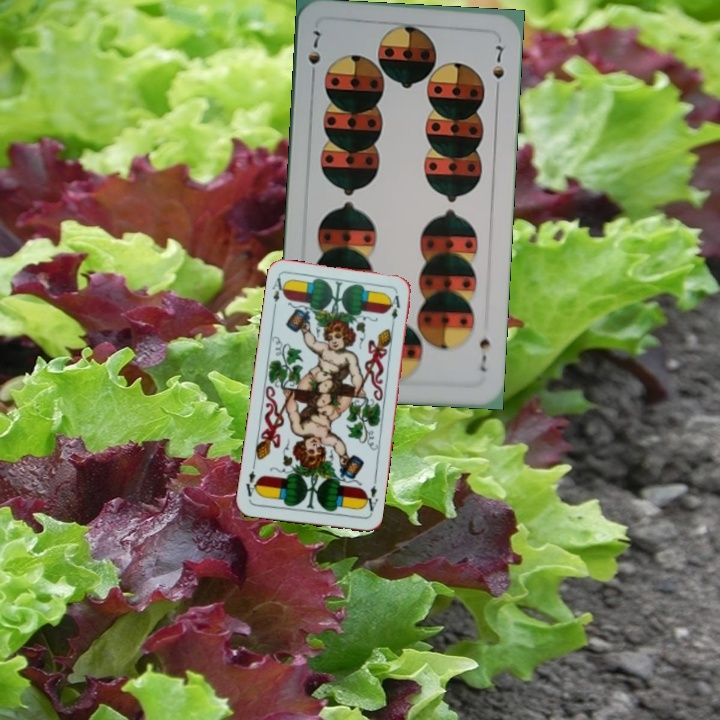EA: (359, 477, 381, 517), (268, 273, 289, 313)
S7: (304, 24, 324, 83), (475, 334, 492, 374)
